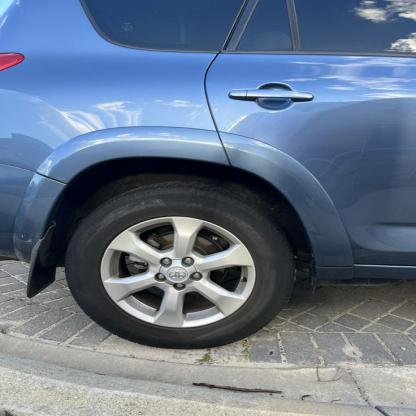Tire: (63, 181, 298, 352)
